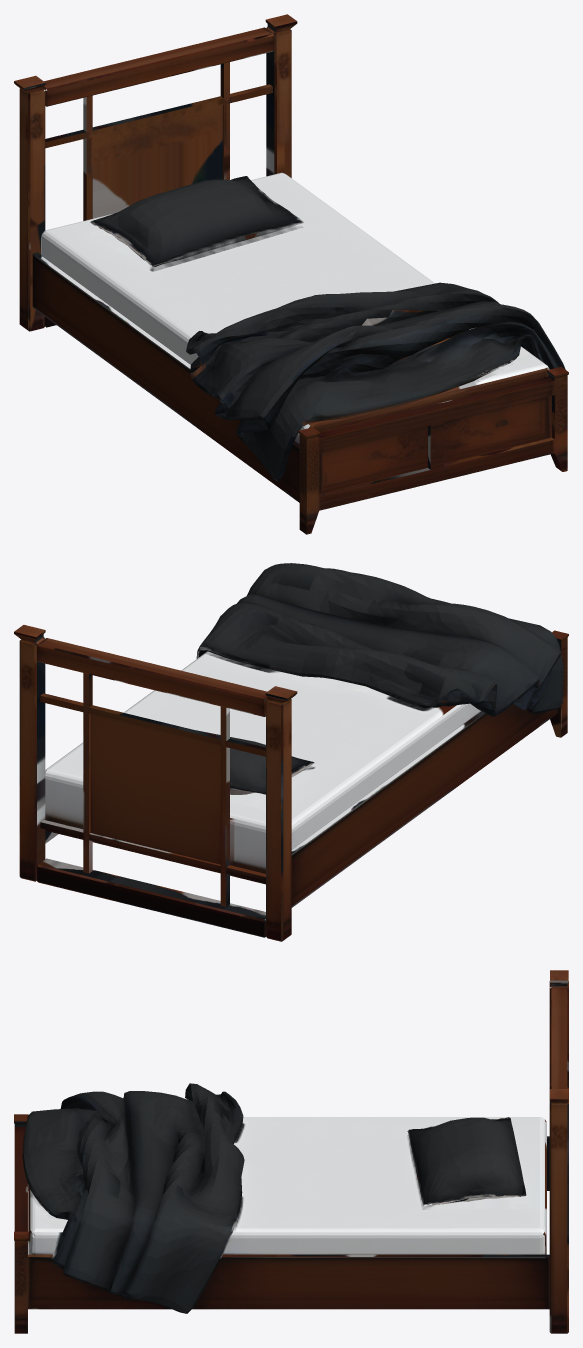
The model's file is edited_mesh.glb.
3 renders of one model, top to bottom at view 1: azimuth 30°, elevation 25°; view 2: azimuth 150°, elevation 25°; view 3: azimuth 270°, elevation 25°, orthographic. The views are drawn at different scales.
Visible parts, largest first — view 1: solid_001_wire; view 2: solid_001_wire; view 3: solid_001_wire.
Part boxes in pixels (<box>): solid_001_wire: <box>14,14,568,534</box>; solid_001_wire: <box>14,563,568,941</box>; solid_001_wire: <box>14,970,568,1333</box>.
Size of the model in its own units: 1.29 by 0.9447 by 2.
1 material, 1 textured.
